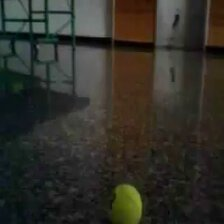tennis: (111, 185, 142, 224)
